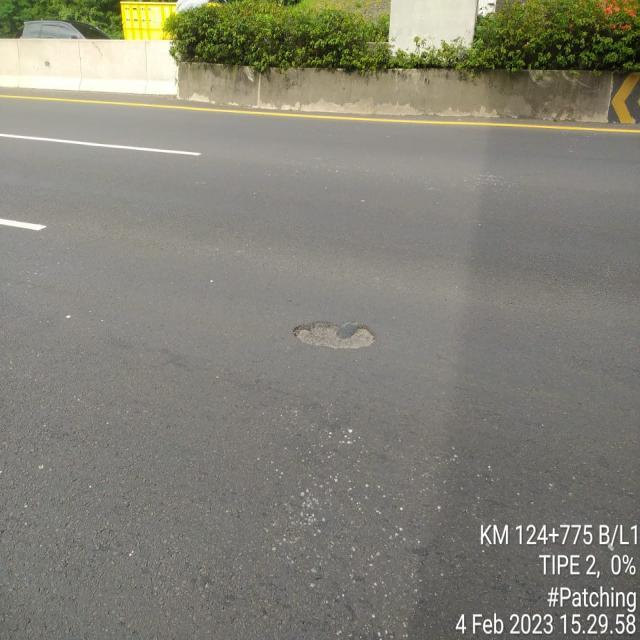Buraco: (290, 319, 380, 353)
